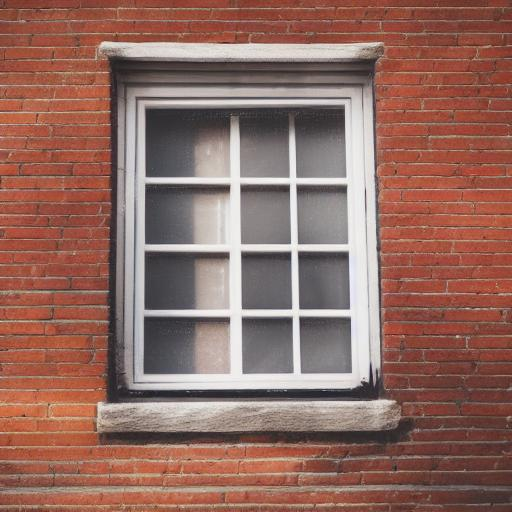Window: (95, 43, 401, 433)
